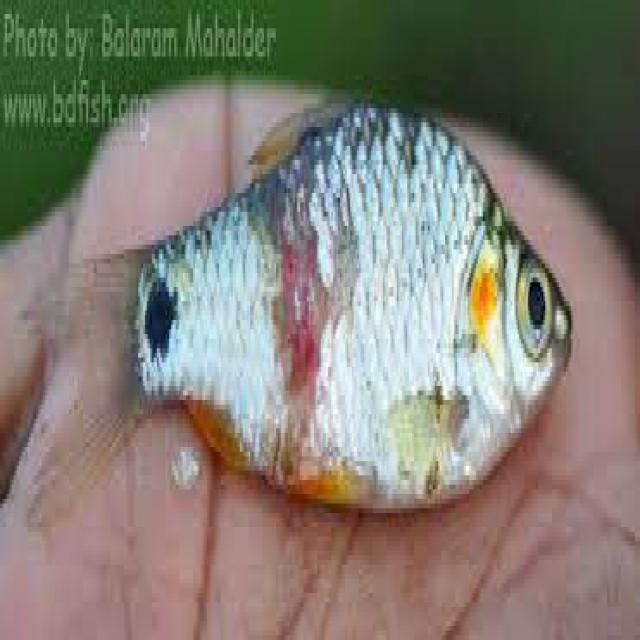EUS Disease: (41, 106, 574, 519), (108, 114, 416, 515)
